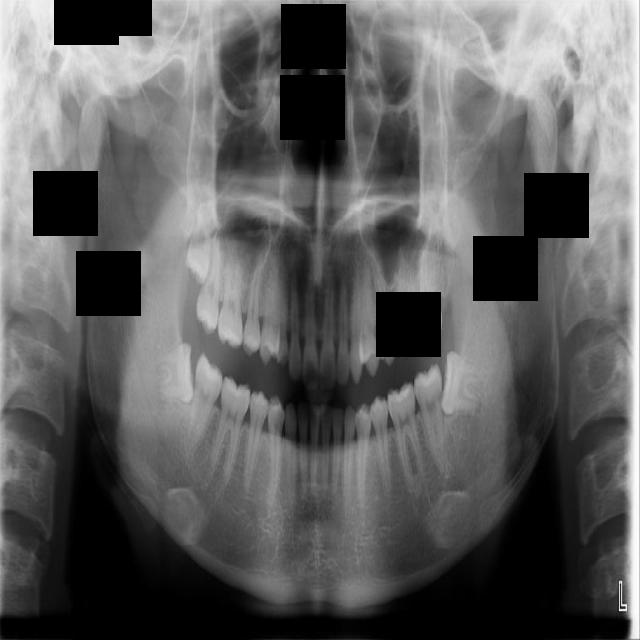3M ESPE Implant: (180, 190, 225, 288)
73: (582, 542, 590, 568)
BioHorizons Implant: (417, 225, 444, 345)
Biomet 3i Implant: (438, 350, 488, 420)
Blue Sky Bio Implant: (412, 362, 449, 474)
Caries: (194, 216, 226, 336)
Implant: (183, 351, 228, 454)
Keystone Dental Implant: (154, 339, 198, 404)
